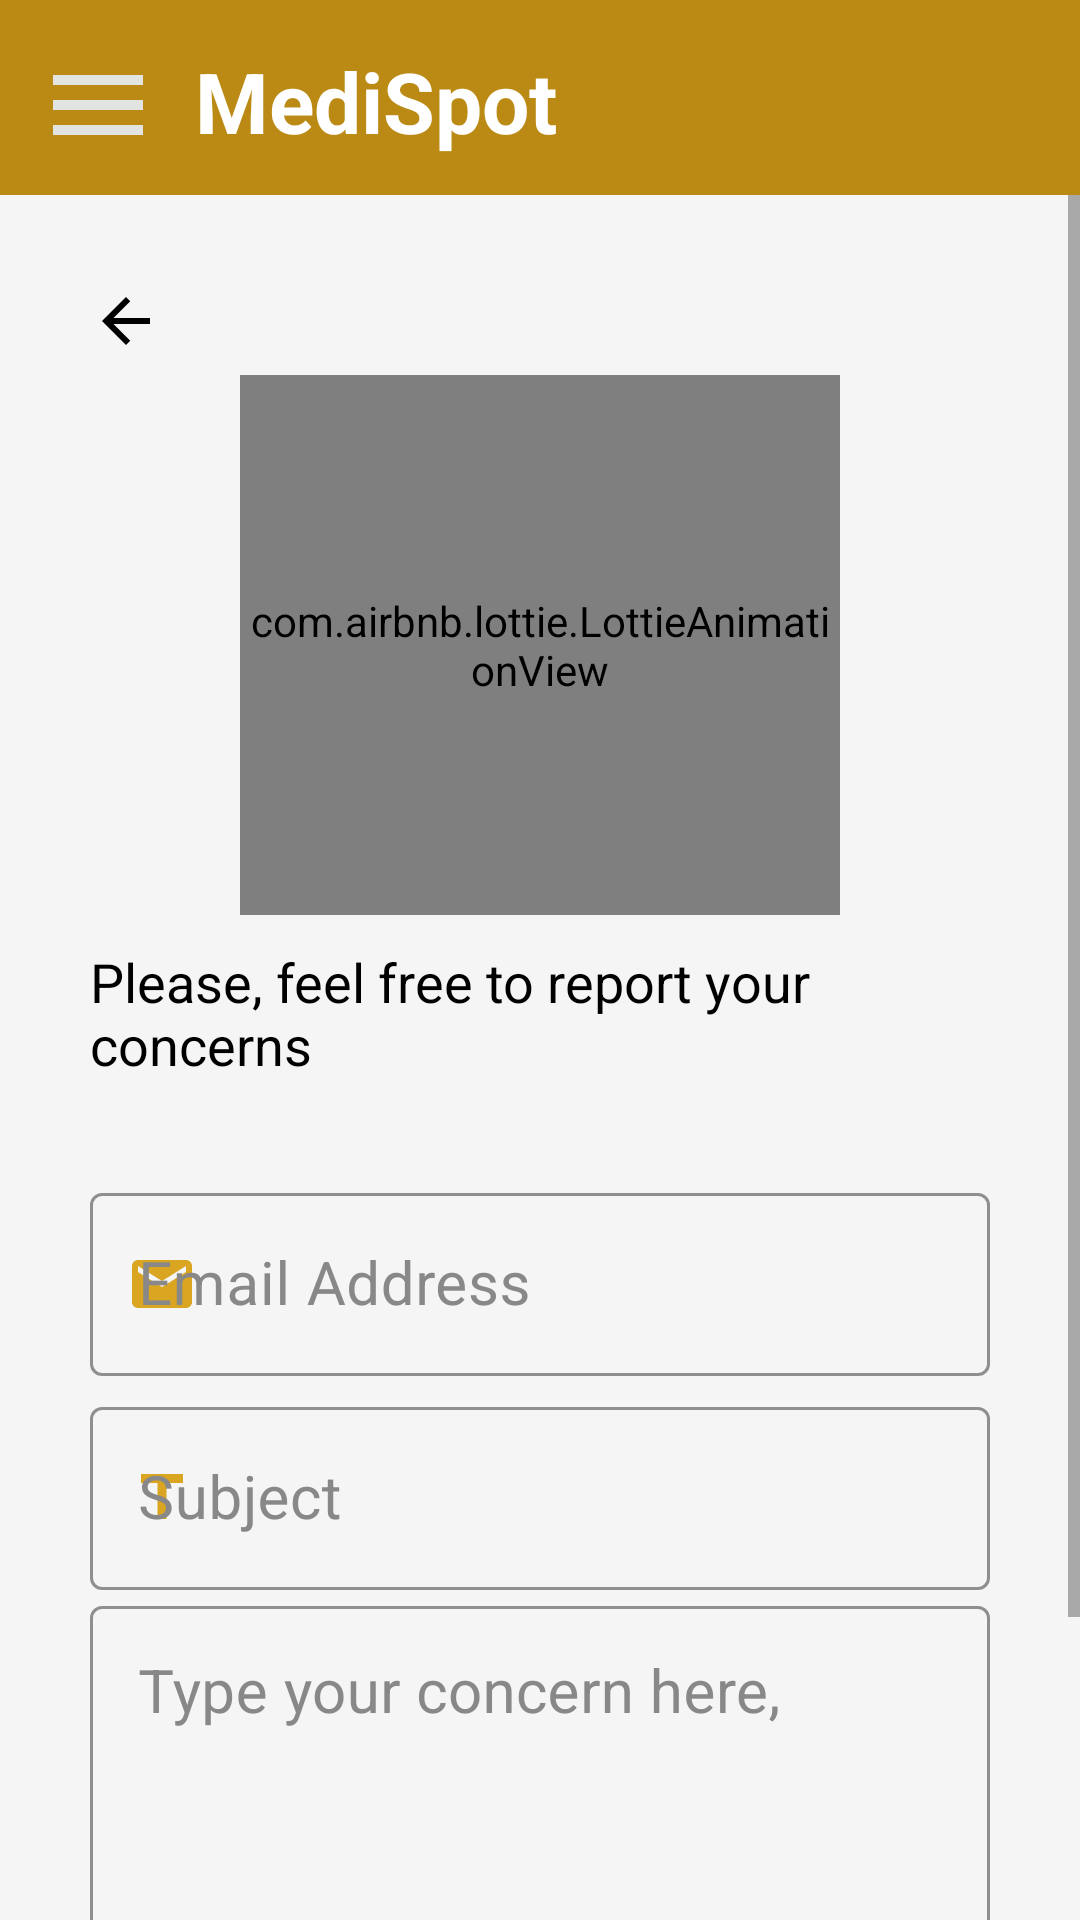

Screen size 1080x1920. Icon name, then its center in pixels as (x,y):
back: (126,321)
menu: (98,105)
